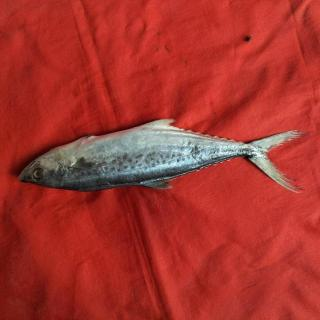Ikan: (15, 117, 309, 207)
